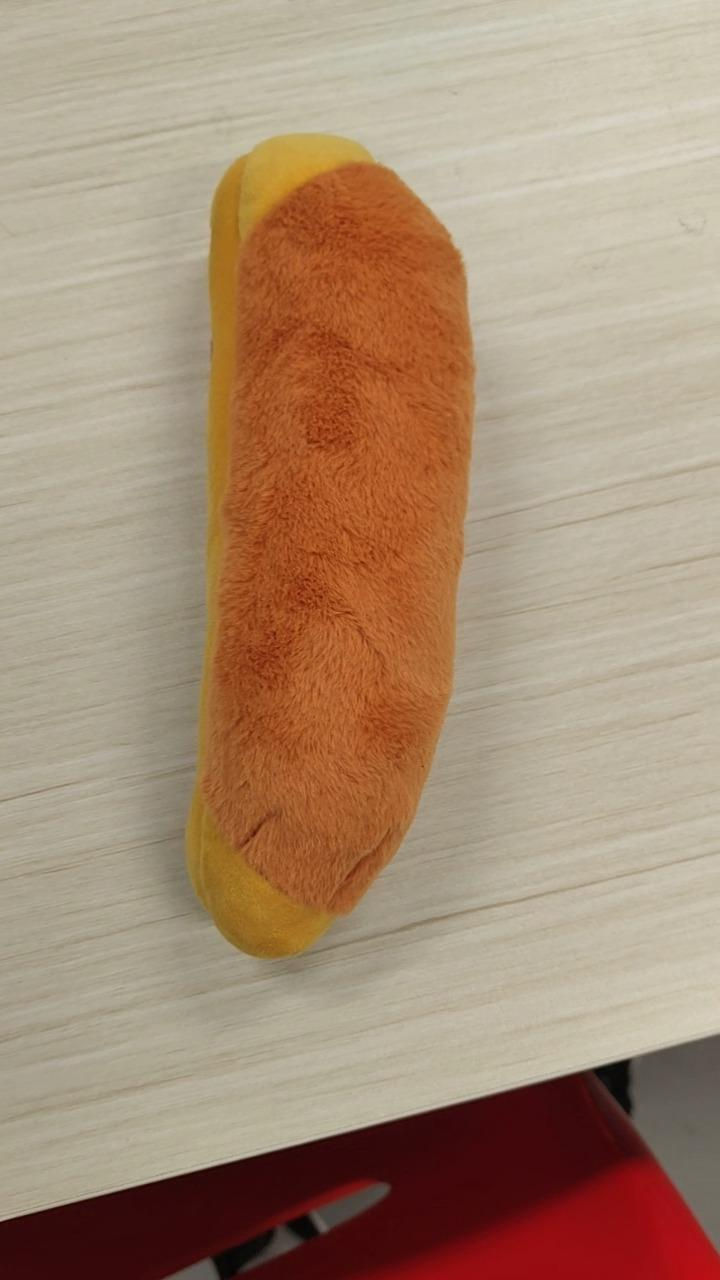hotdog: (183, 130, 477, 960)
